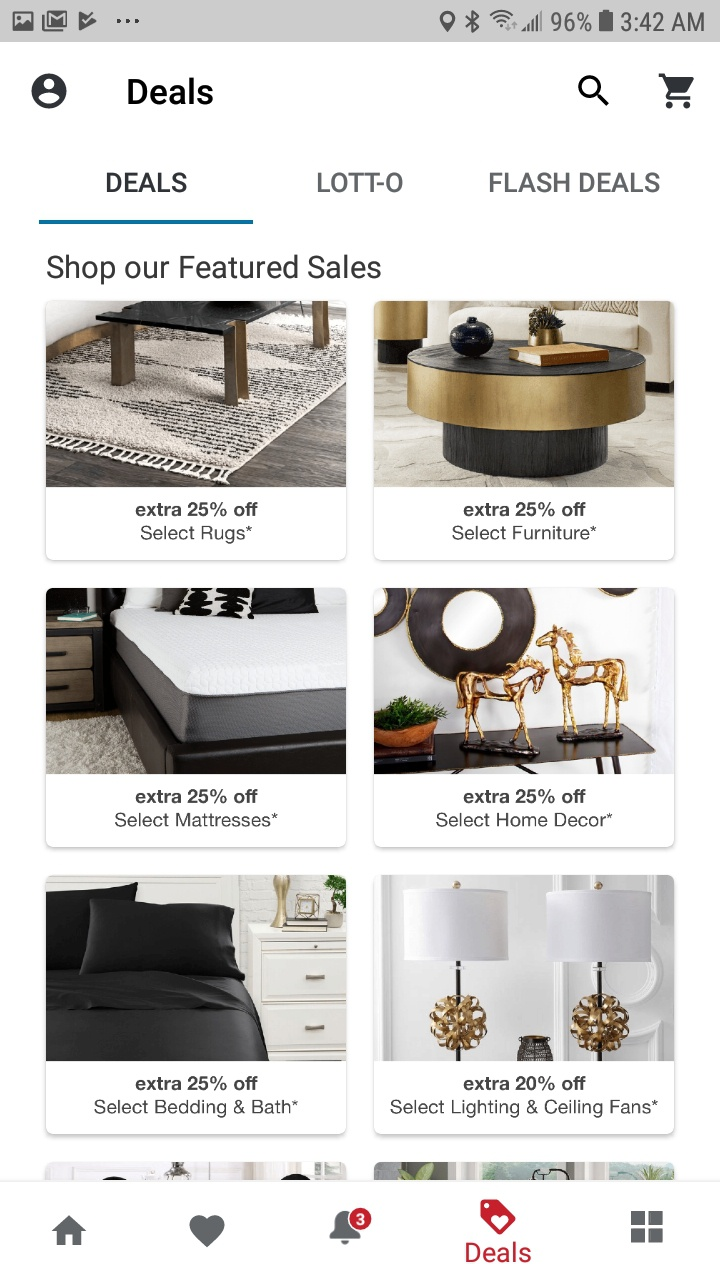Icon: (329, 1207, 372, 1245), (480, 1199, 517, 1235), (658, 73, 694, 110), (32, 74, 68, 110), (190, 1214, 226, 1248), (52, 1214, 88, 1246), (631, 1210, 663, 1243), (578, 75, 610, 108)
Image: (374, 588, 676, 775), (46, 588, 347, 775), (374, 301, 675, 488), (46, 301, 346, 488), (374, 875, 675, 1061), (47, 875, 347, 1061), (45, 1162, 347, 1180), (374, 1162, 674, 1180)
Text: (390, 1075, 659, 1119), (47, 254, 382, 286), (94, 1075, 299, 1119), (436, 788, 613, 828), (115, 789, 279, 828), (452, 502, 597, 541), (136, 501, 259, 545), (490, 172, 660, 194), (128, 77, 214, 106), (318, 172, 404, 194), (107, 172, 188, 194), (466, 1240, 532, 1263)
UpperTaskBar: (1, 1, 720, 43)
